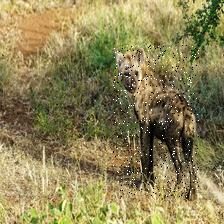hyena: (113, 46, 199, 198)
